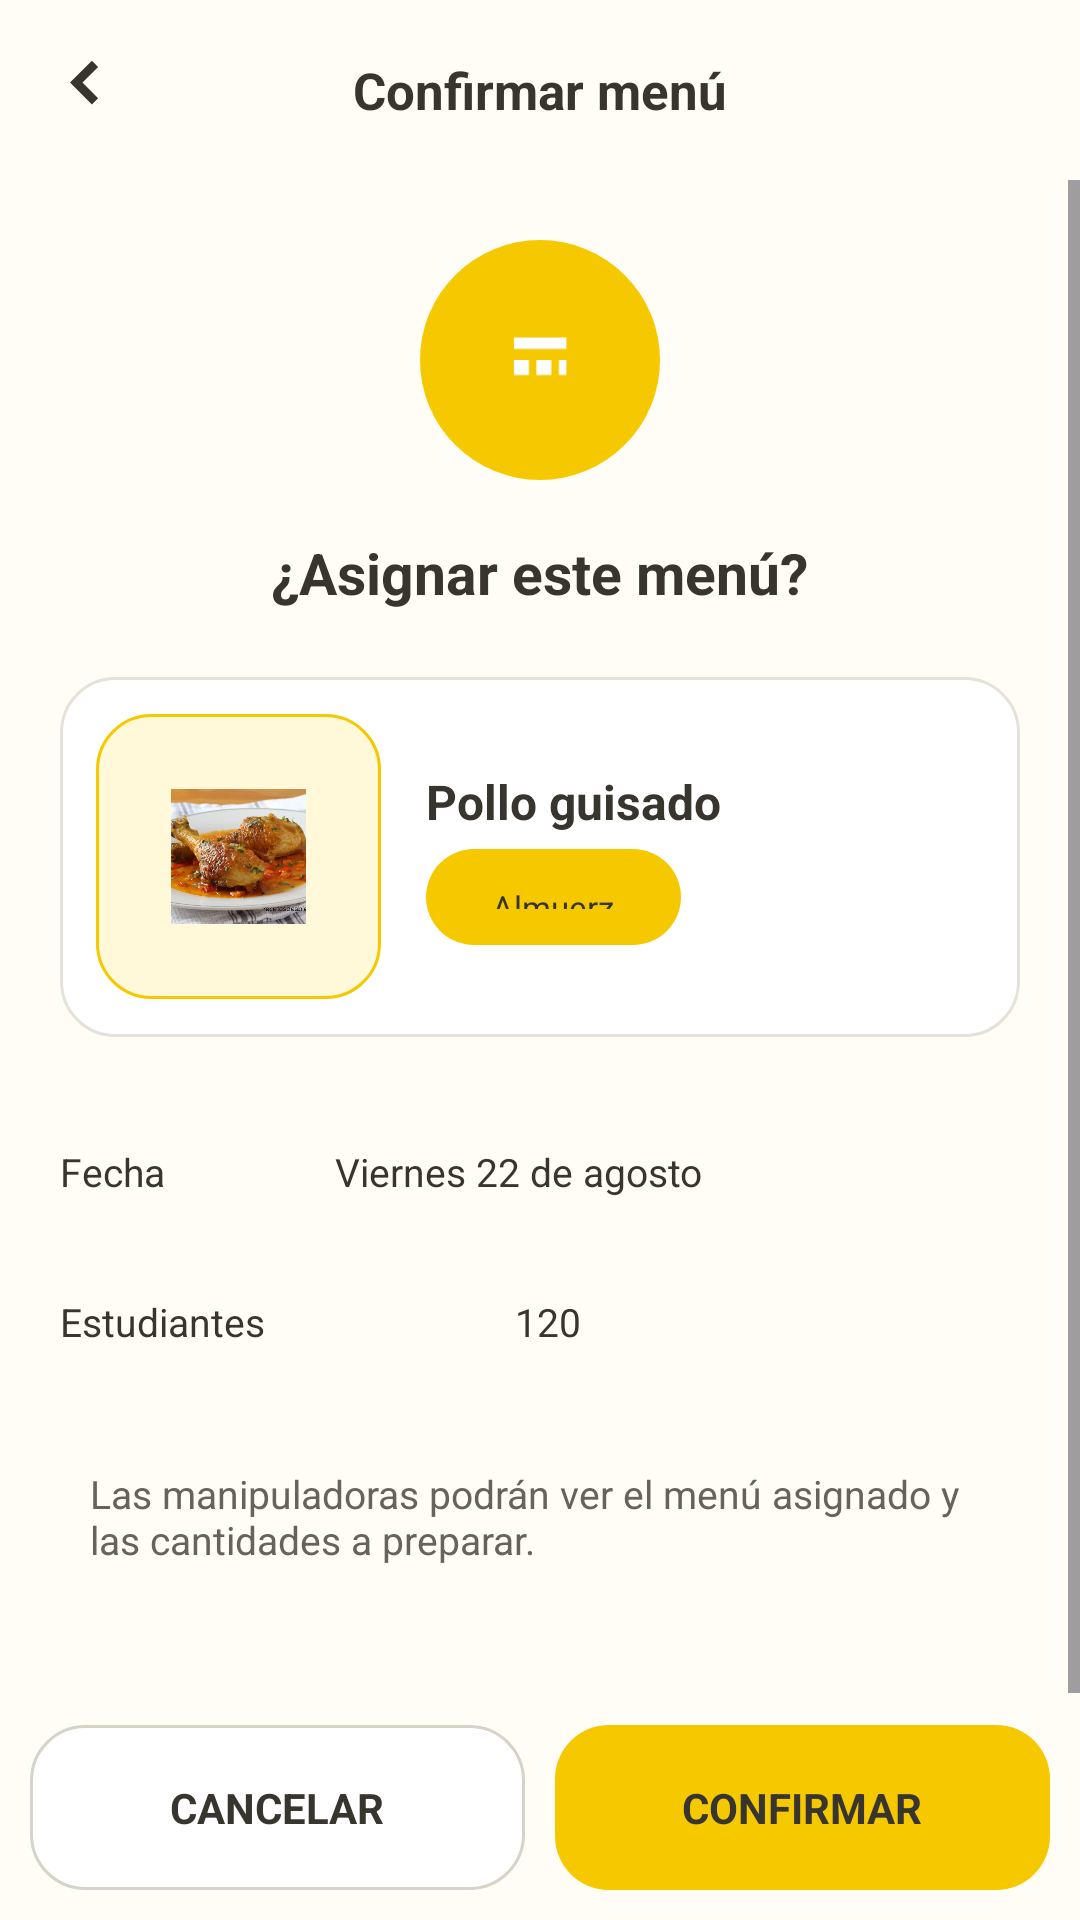

Named icons in this screenshot (1080px×1920px) and their centers, (x,y):
flecha izquierda: (84,83)
